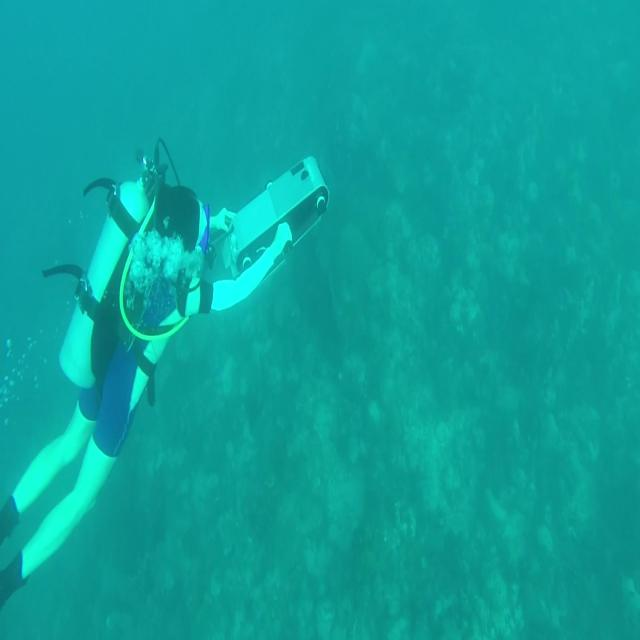human: (1, 142, 328, 608)
